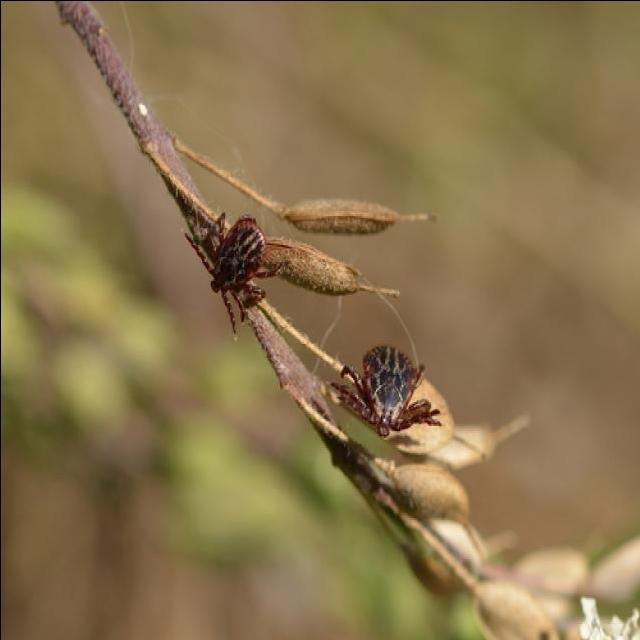Dermacentor Reticulatus-M: (179, 213, 273, 340), (330, 345, 439, 437)
